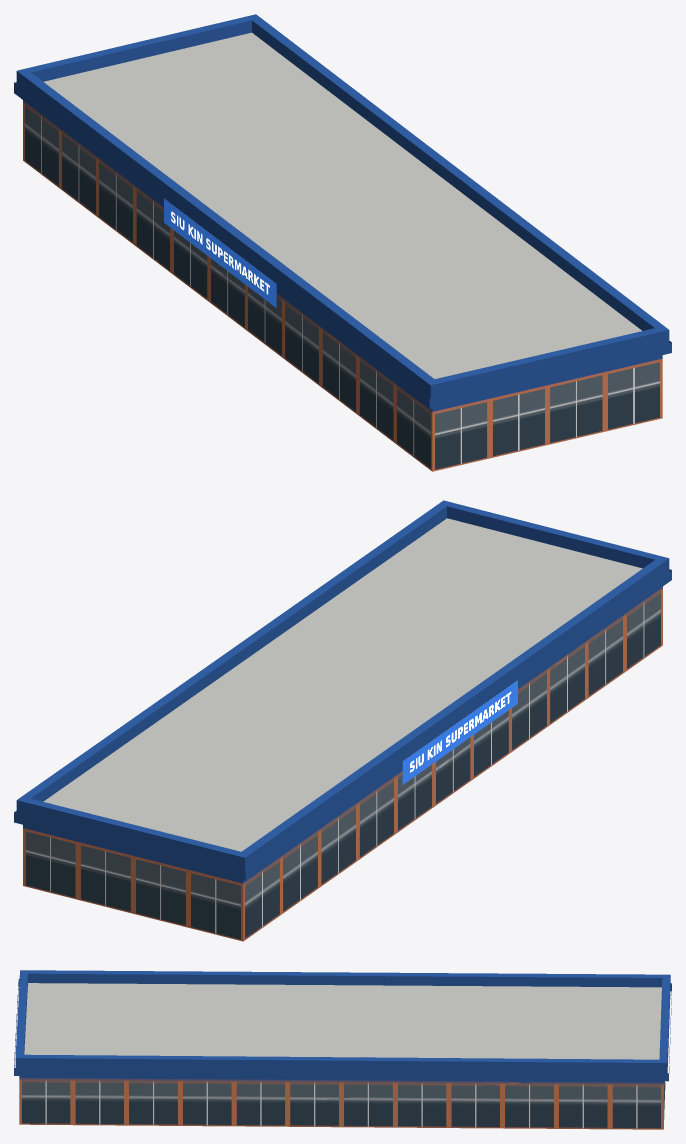
File: siukin_noord.glb
3 renders of one model, top to bottom at view 1: azimuth 30°, elevation 25°; view 2: azimuth 150°, elevation 25°; view 3: azimuth 270°, elevation 25°, orthographic. The views are drawn at different scales.
Parts seen in each view (by area): view 1: siukin_noord_lod0; view 2: siukin_noord_lod0; view 3: siukin_noord_lod0.
Boxes of the visible parts, x1=… form: siukin_noord_lod0: x1=14, y1=14, x2=671, y2=471; siukin_noord_lod0: x1=14, y1=500, x2=671, y2=941; siukin_noord_lod0: x1=14, y1=970, x2=671, y2=1129.
Size of what is drawn, in the model's own units: 15.11 by 5.1 by 44.61.
4 materials, 2 textured.
